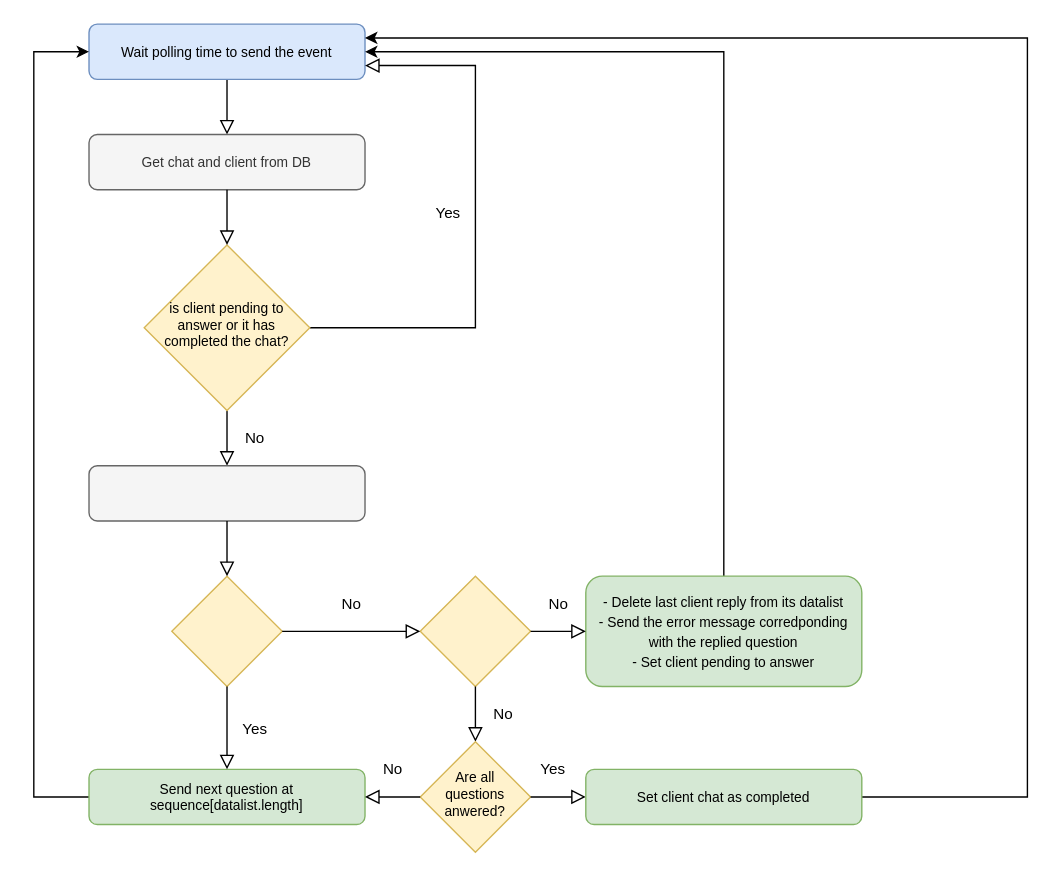
The diagram is 1063 pixels wide and 876 high, and some of its shapes have lost their labels. The shapes that lost their labels are listed below. From the top down, each one's centre as x and y in pixels, then its label:
(226,492): Get last client reply
(226,631): Is null?
(475,631): Is valid?
